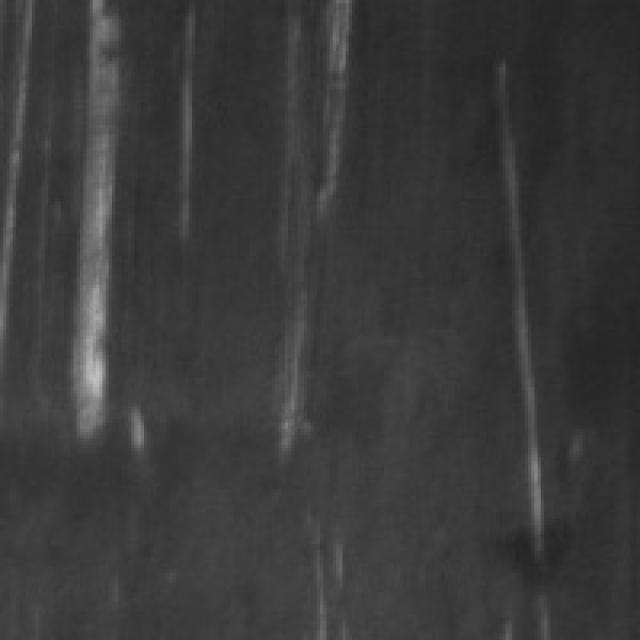scratches: (51, 0, 147, 458), (269, 0, 349, 470), (496, 96, 554, 573)
